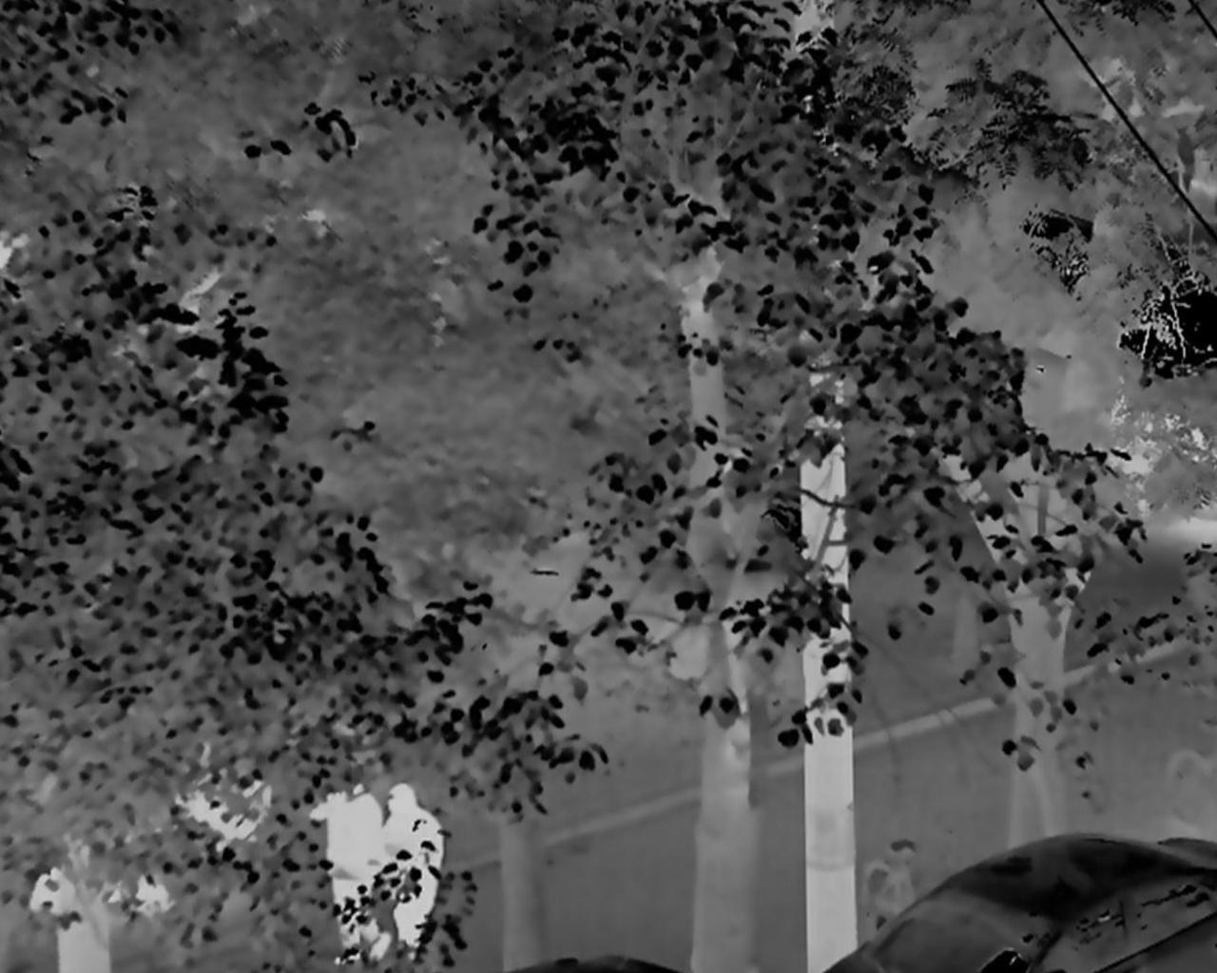person: (306, 776, 391, 973), (378, 780, 444, 973)
